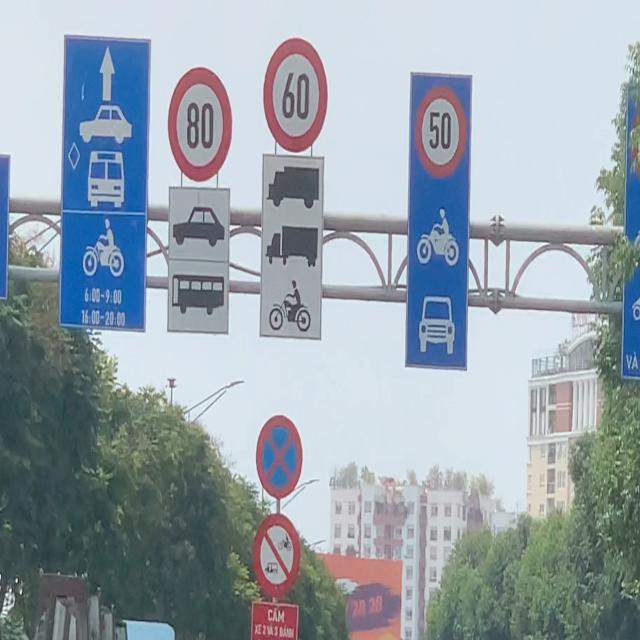Cam con lai: (252, 513, 302, 599)
Cam dung va do: (255, 414, 303, 500)
Toc do toi da: (168, 66, 233, 183), (263, 37, 328, 154), (415, 85, 467, 179)
